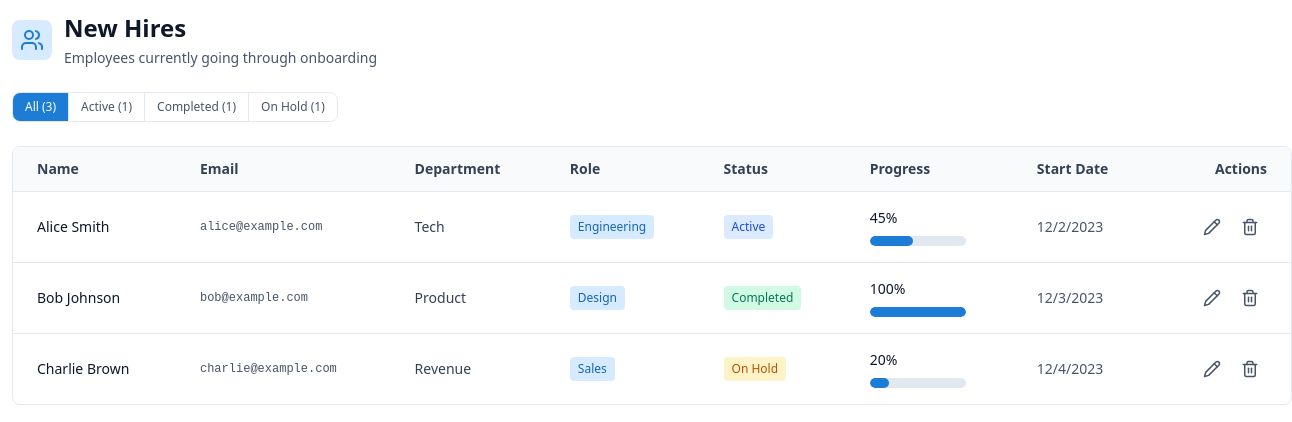
Test case: NewHiresPanel › Filtering › filters to only completed instances when Completed filter clicked
This screenshot has width=1292, height=422.
Click the button "Completed (1)": (196, 107) [144,93,248,121]
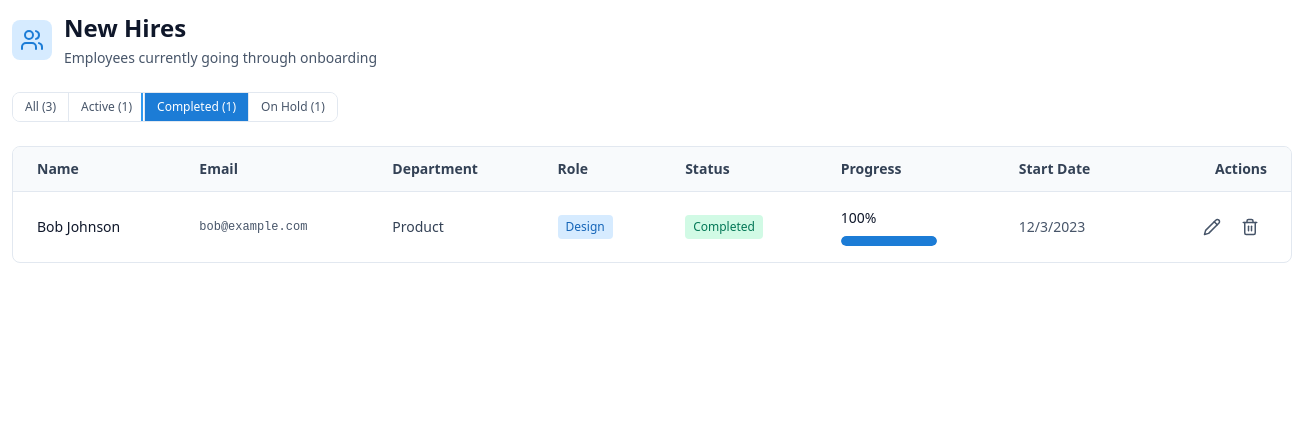
Check: the text "Bob Johnson" is shown, box [37,217,120,236]
Check: the text "Alice Smith" is gone
Check: the text "Charlie Brown" is gone
